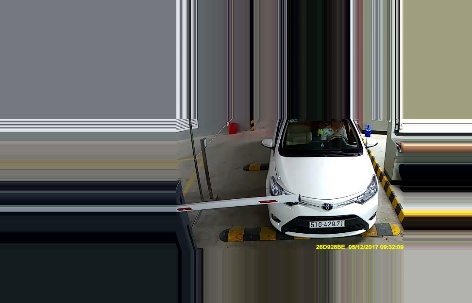plate: (305, 217, 346, 230)
